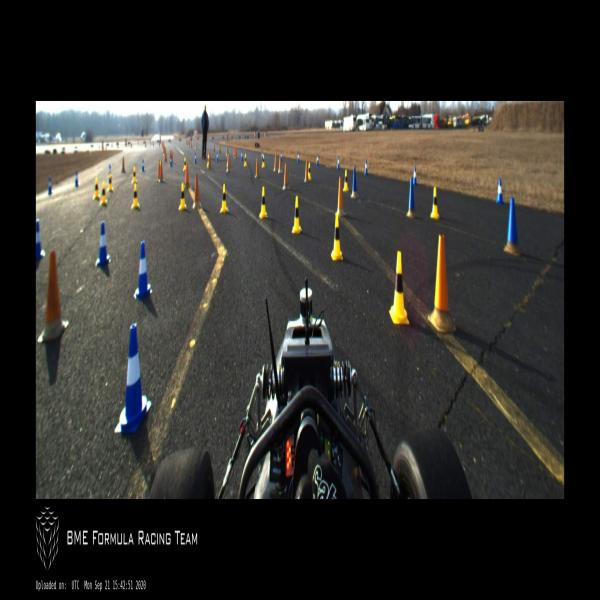blue_cone: (112, 325, 152, 432), (134, 242, 152, 297), (95, 222, 110, 266), (36, 219, 44, 258), (496, 179, 503, 203), (412, 166, 416, 184), (48, 176, 51, 193), (365, 158, 368, 174), (108, 164, 112, 176), (75, 171, 78, 186), (316, 153, 319, 166), (337, 157, 340, 169), (297, 151, 300, 163), (216, 151, 219, 162), (280, 151, 283, 161), (142, 159, 144, 171), (170, 156, 172, 167), (261, 150, 263, 160), (194, 153, 196, 162), (241, 151, 243, 160)
yellow_cone: (390, 251, 410, 324), (331, 214, 343, 260), (292, 196, 301, 234), (259, 186, 268, 217), (430, 187, 439, 218), (220, 183, 228, 212), (179, 183, 187, 209), (131, 183, 139, 208), (100, 182, 106, 204), (93, 178, 99, 199), (107, 173, 113, 190), (344, 170, 348, 190), (132, 166, 137, 182), (308, 163, 312, 180), (206, 154, 210, 168), (262, 154, 266, 167), (183, 157, 187, 170), (244, 154, 247, 166)
